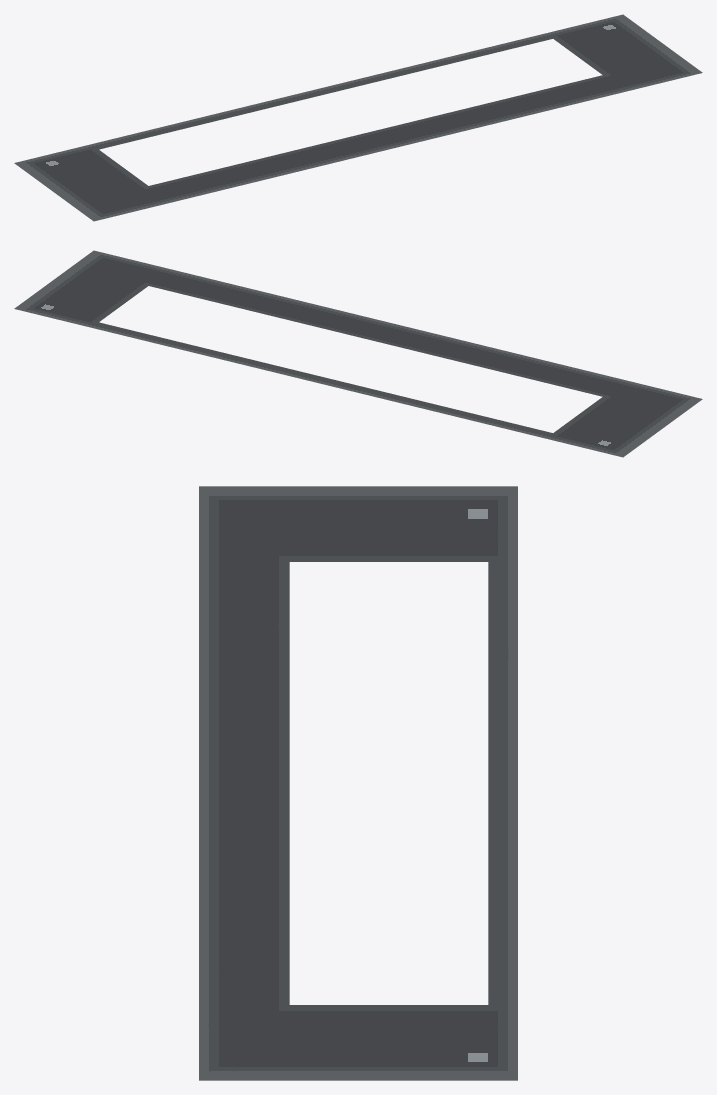
File: kd_stage_135d18_4_55.glb
3 views of the same model, one above another, from view 1: azimuth 30°, elevation 25°; view 2: azimuth 150°, elevation 25°; view 3: azimuth 270°, elevation 25° (orthographic). The views are drawn at different scales.
Visible parts, largest first — view 1: kd_stage_135d18_4_55; view 2: kd_stage_135d18_4_55; view 3: kd_stage_135d18_4_55.
Part boxes in pixels (box(x1,y1,x2,y2)): kd_stage_135d18_4_55: box(14, 14, 702, 221); kd_stage_135d18_4_55: box(14, 250, 702, 457); kd_stage_135d18_4_55: box(199, 486, 517, 1080).
Bounding box in the file's own units: 0.4718 × 3.73e-09 × 0.1071.
Materials: 1 (1 with a texture image).
